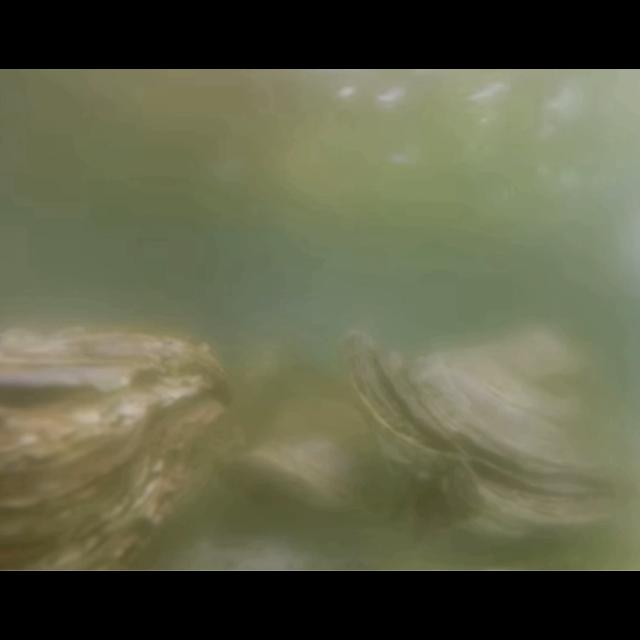Oyster-Closed: (338, 325, 638, 553), (1, 325, 248, 563), (230, 398, 376, 520)
